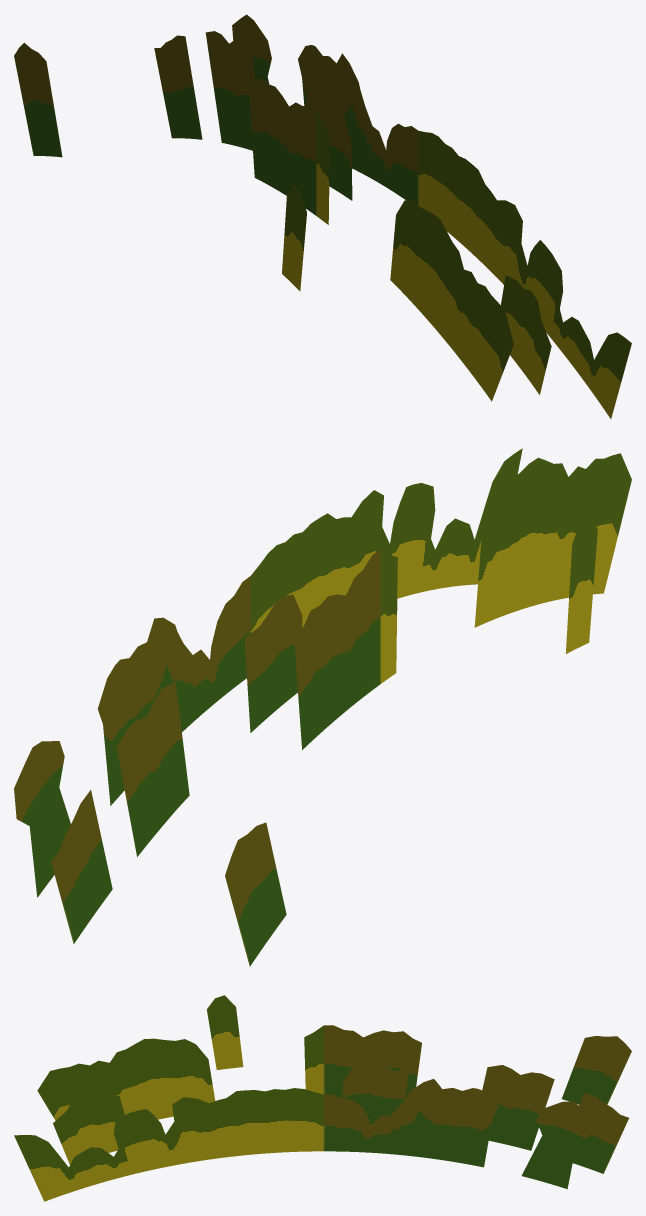
The model's file is tree_line.FBX.
The picture shows the model from 3 angles, top to bottom: view 1: azimuth 30°, elevation 25°; view 2: azimuth 150°, elevation 25°; view 3: azimuth 270°, elevation 25°; orthographic projection. The views are drawn at different scales.
Visible parts, largest first — view 1: Plane010, Object002, Object001, Object003; view 2: Plane010, Object002, Object001, Object003; view 3: Plane010, Object002, Object001, Object003.
Part boxes in pixels (x1,y1,x2,y2): Plane010: (232,14,631,418); Object002: (248,78,513,401); Object001: (154,31,551,394); Object003: (14,43,306,291); Plane010: (14,448,522,897); Object002: (294,453,631,749); Object001: (51,594,302,943); Object003: (225,515,597,966); Plane010: (14,1079,593,1201); Object002: (37,1025,421,1120); Object001: (53,1063,628,1173); Object003: (207,995,631,1104).
Bounding box in the file's own units: 3546 × 3417 × 13633.
